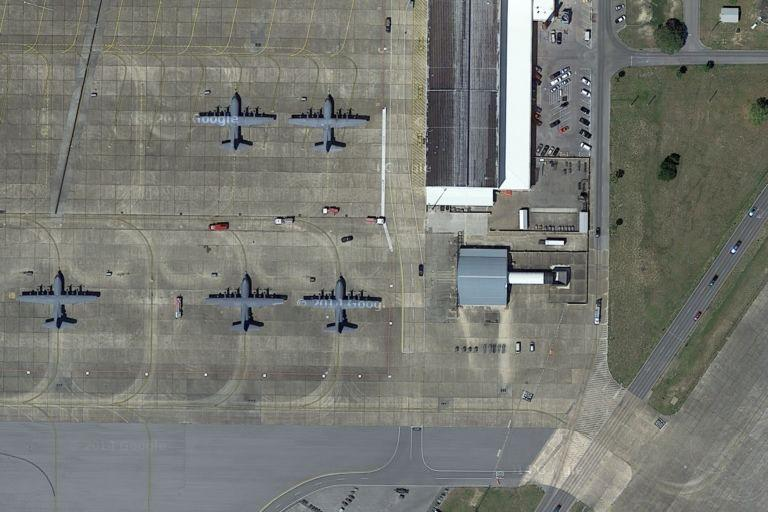C-130: (293, 273, 386, 341), (201, 269, 294, 335), (281, 93, 377, 155), (13, 270, 106, 332), (193, 90, 278, 153)
